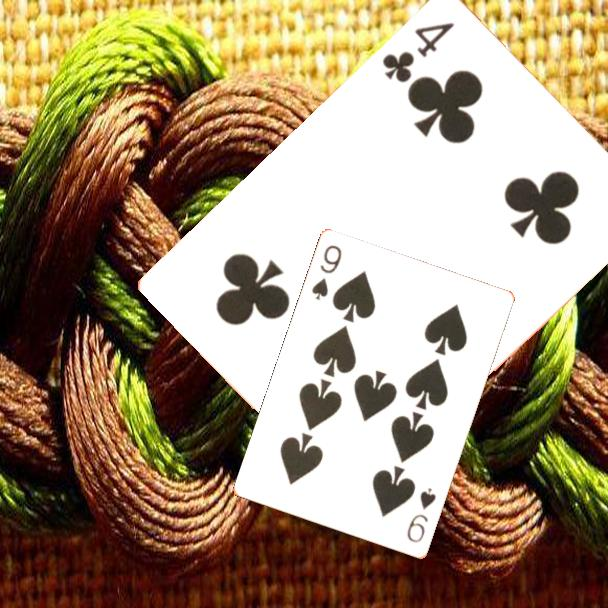c04: (378, 18, 458, 86)
s09: (308, 242, 345, 303), (404, 485, 439, 546)
